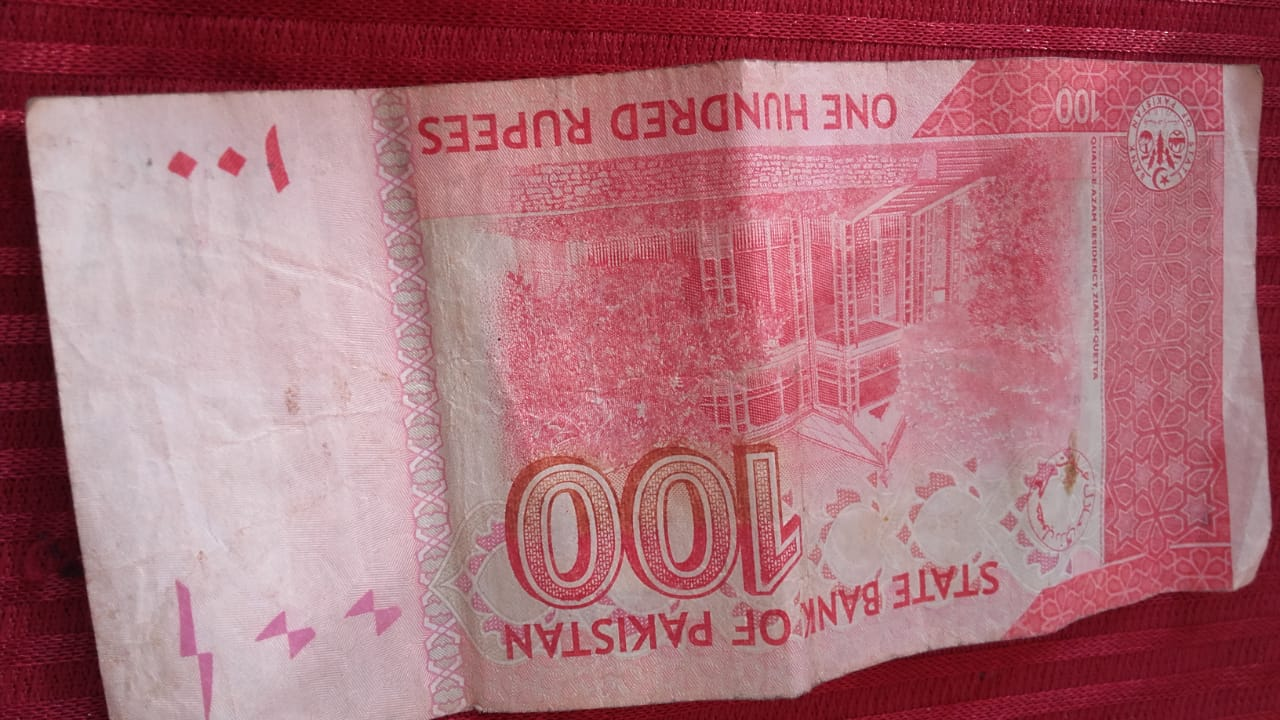100 rupee: (28, 33, 1267, 717)
